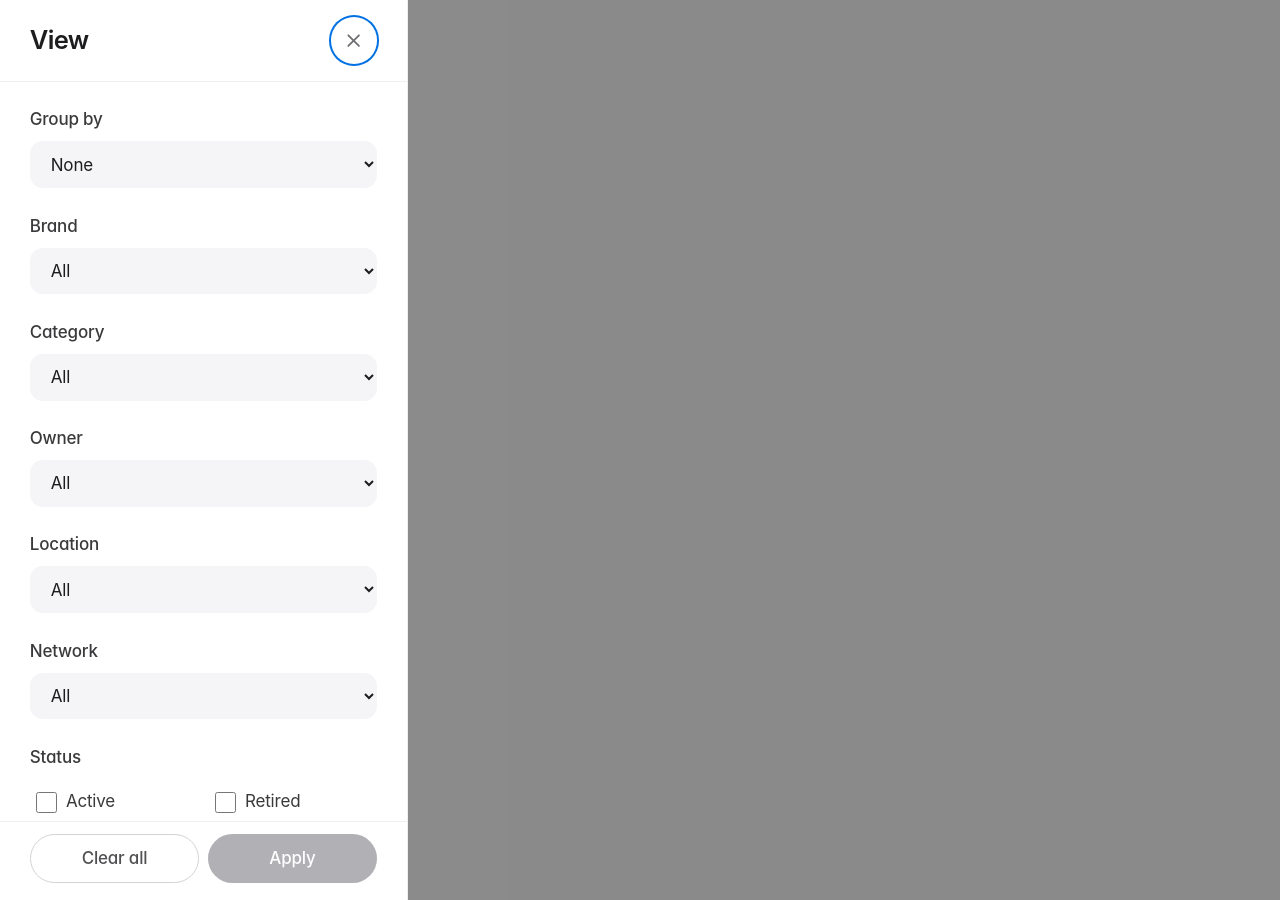
Scenario: DeviceFilters › Save as default view (#128) › disables Save as default view while there are unapplied pending changes
Click the checkbox labelled "Active" at (47, 802), box x1=36 y1=792 x2=57 y2=813
(page scrolled)
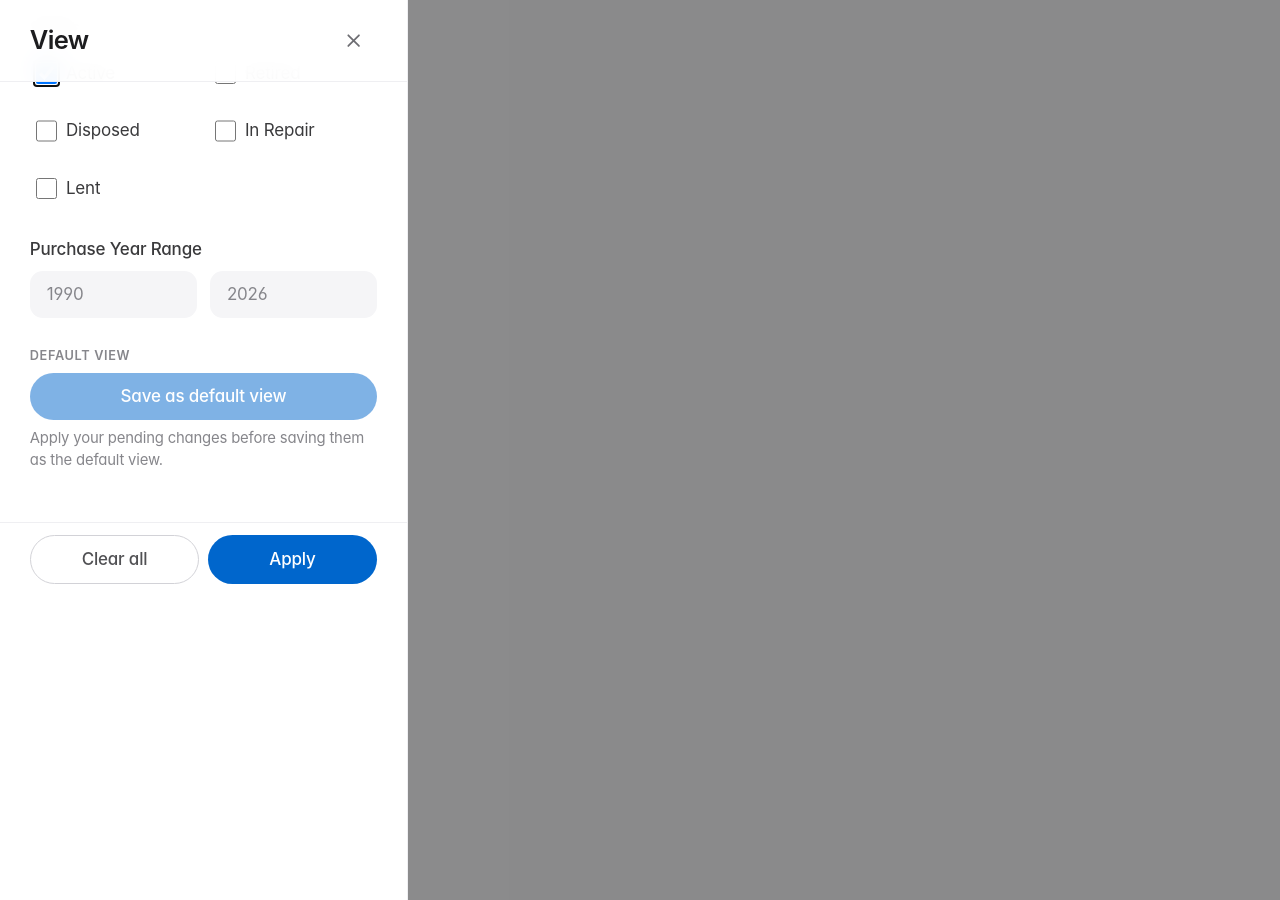
Check: the button "Save as default view" is disabled, box x1=30 y1=373 x2=377 y2=420
Check: the text "Apply your pending changes before saving them as the default view." is shown, box x1=30 y1=428 x2=377 y2=471
